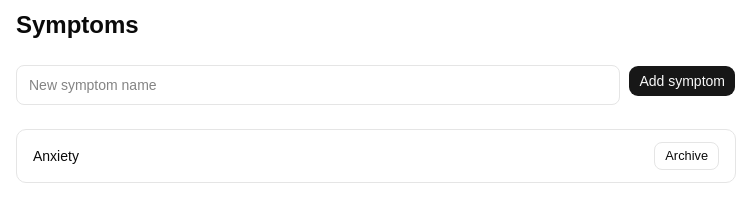
Test case: SymptomsRouteView › archive button removes the symptom from the active list
Check: the button "Anxiety" is shown, box [33,146,642,166]
Click the button "Archive".
click(687, 156)  # box [654,142,719,170]
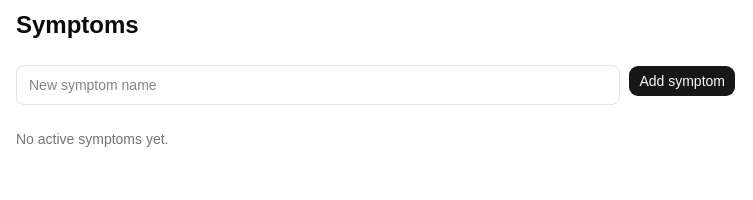
Check: the button "Anxiety" is gone
